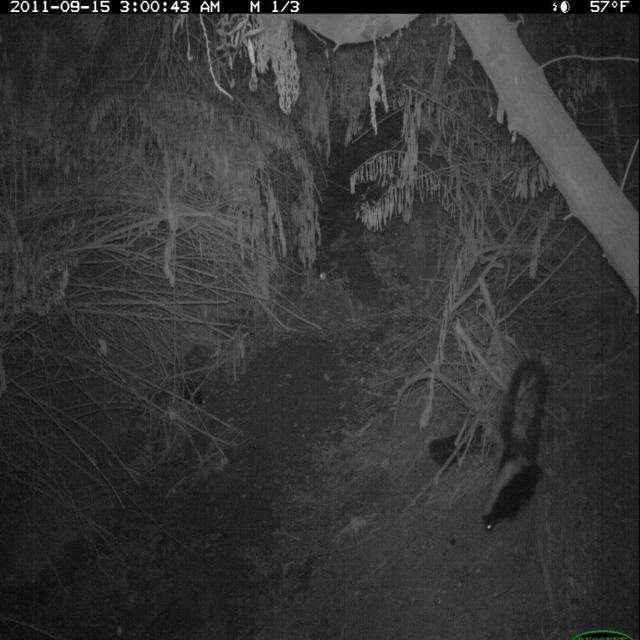skunk: (472, 347, 556, 544)
